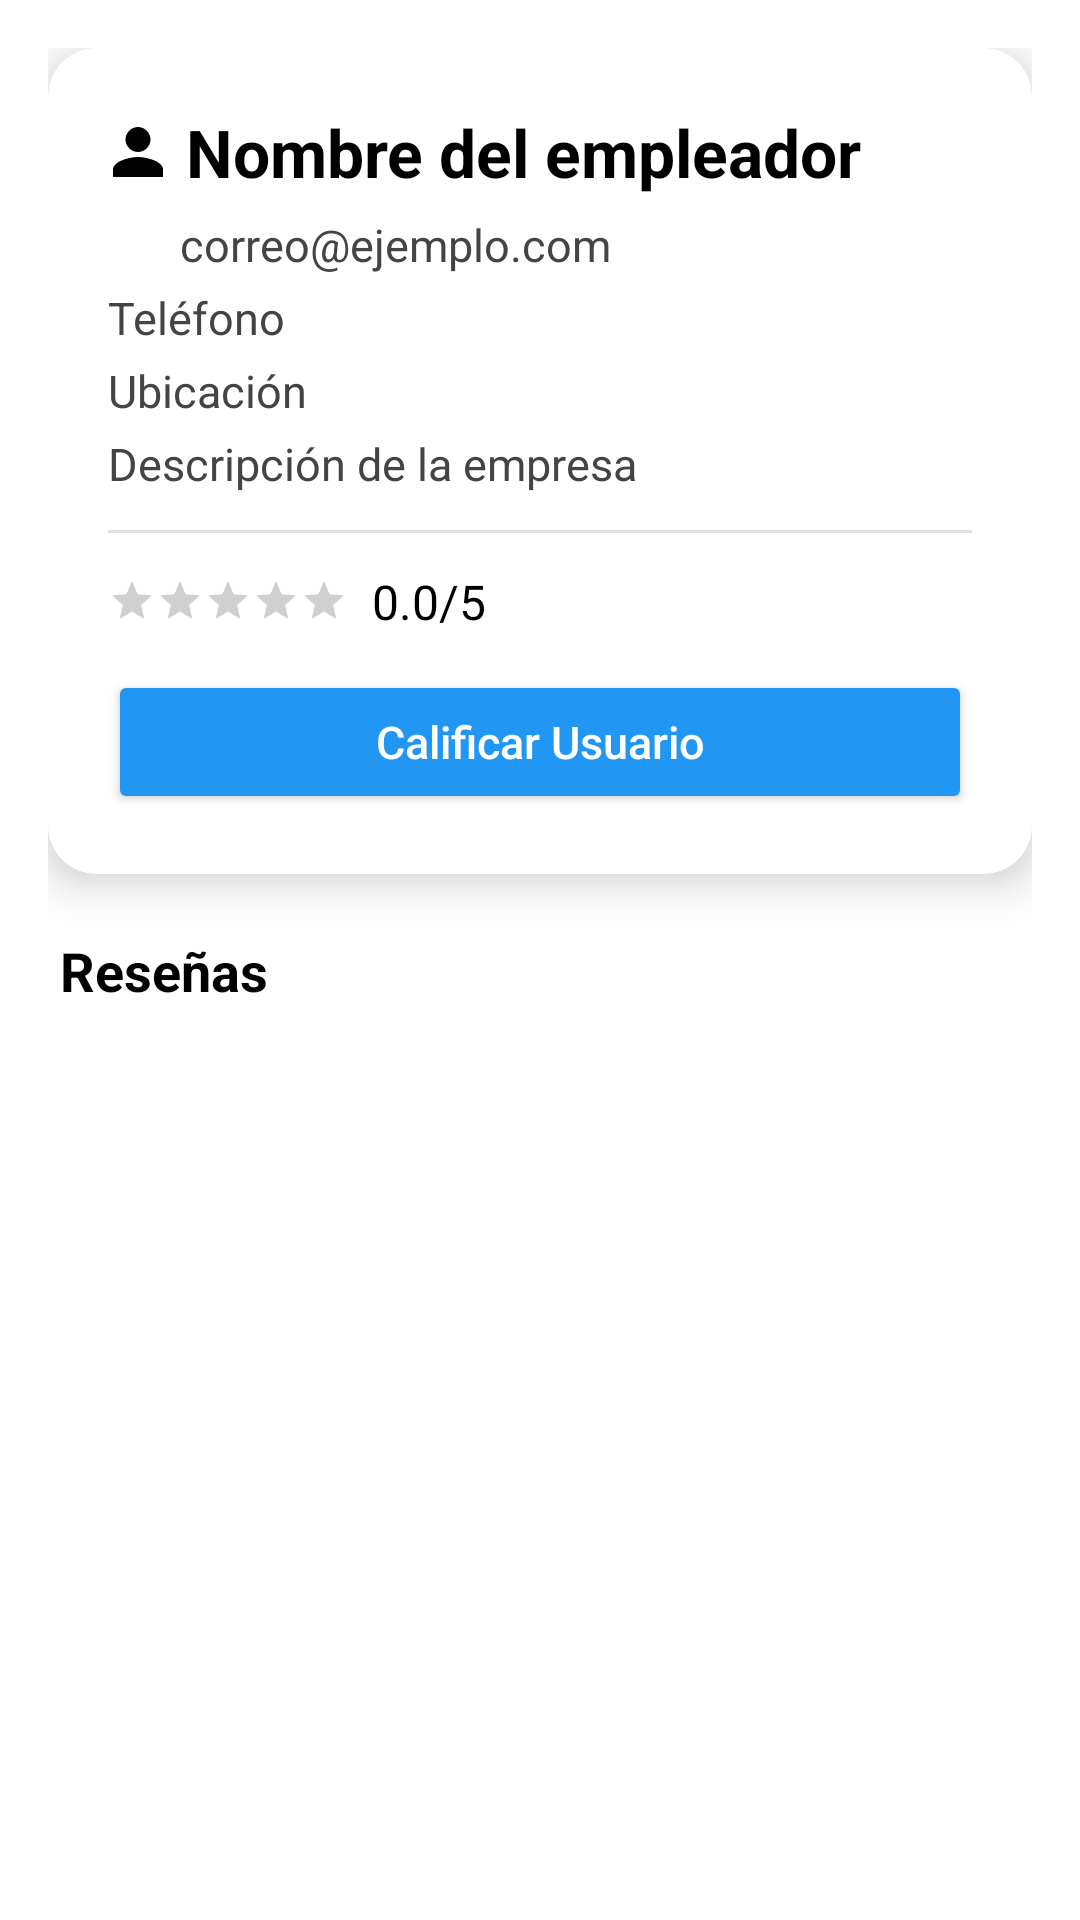

Locate icon controls on the screen. Image size 1080*1920, boxes as (x1, y1, x2, y2).
person: (113, 127, 163, 177)
